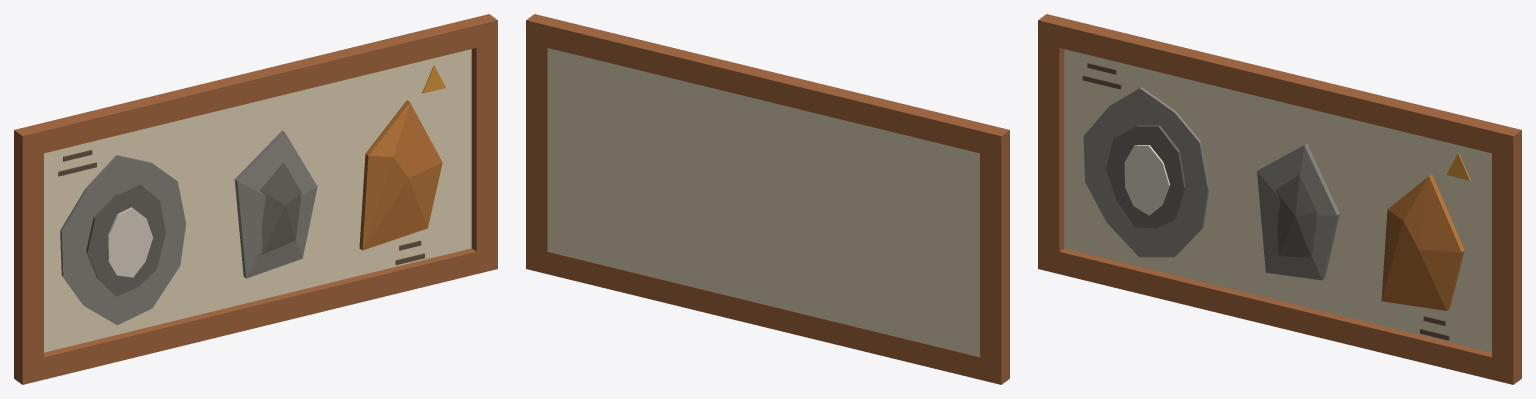
Rendered from Lodge_PosterGeode.fbx.
3 renders of one model, left to right at view 1: azimuth 30°, elevation 25°; view 2: azimuth 150°, elevation 25°; view 3: azimuth 330°, elevation 25°, orthographic.
Parts seen in each view (by area): view 1: Paper, Frame, ArtRock, ArtBrown, ArtRockDark, ArtRim, Ink; view 2: Paper, Frame; view 3: Paper, Frame, ArtRock, ArtBrown, ArtRockDark, ArtRim, Ink.
Boxes of the visible parts, box(x1,y1,x2,y2) form: Paper: box(44, 49, 471, 352); Frame: box(14, 14, 497, 384); ArtRock: box(60, 130, 317, 325); ArtBrown: box(359, 100, 442, 250); ArtRockDark: box(86, 162, 301, 296); ArtRim: box(107, 207, 152, 277); Ink: box(58, 150, 424, 264); Paper: box(547, 48, 979, 356); Frame: box(526, 14, 1009, 384); Paper: box(1064, 49, 1491, 352); Frame: box(1038, 14, 1521, 384); ArtRock: box(1083, 87, 1339, 280); ArtBrown: box(1381, 174, 1464, 310); ArtRockDark: box(1106, 125, 1317, 257); ArtRim: box(1124, 145, 1169, 215); Ink: box(1082, 63, 1449, 340).
Bounding box in the file's own units: 8 × 4 × 0.33.
